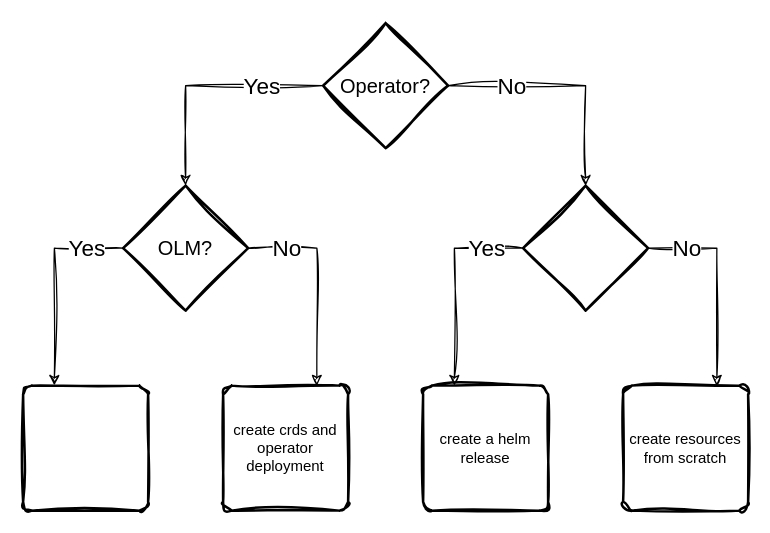
The diagram is 770 pixels wide and 533 high, and some of its shapes have lost their labels. The centre of each missing label's shape, as x and y in pixels:
"create subscription" belongs at (x=85, y=447).
"Helm?" belongs at (x=585, y=247).
